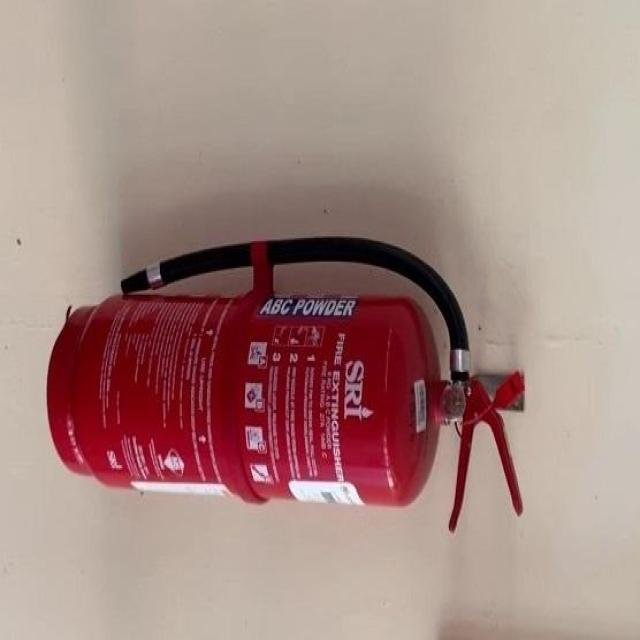fire_extinguisher: (41, 226, 528, 540)
